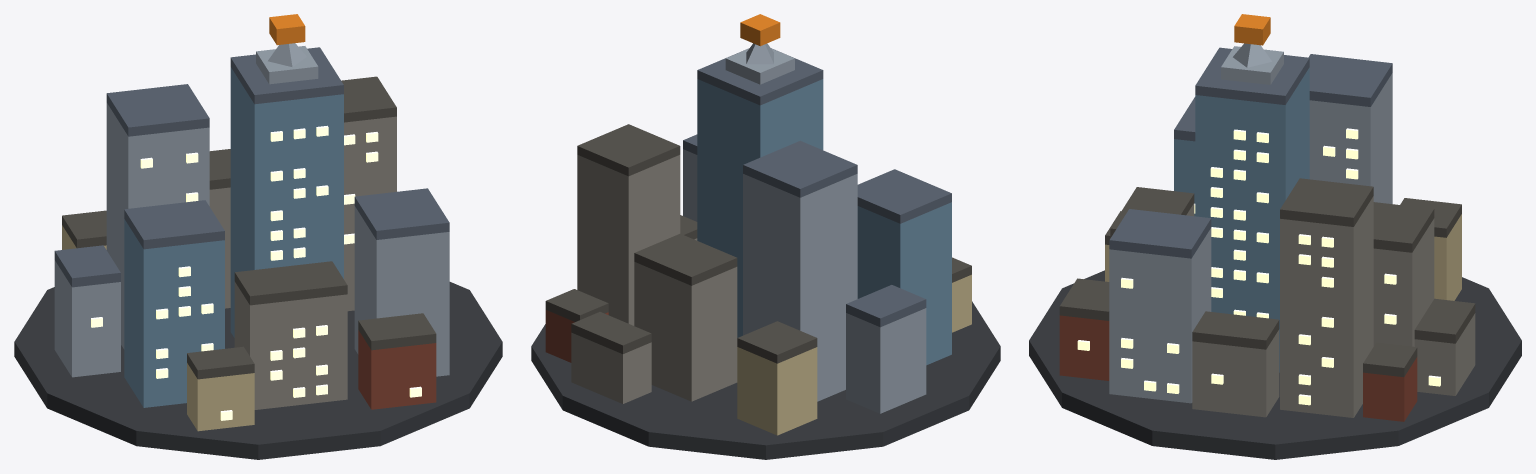
The model's file is overworld-settlement-city.glb.
3 views of the same model, side by side, from view 1: azimuth 30°, elevation 25°; view 2: azimuth 150°, elevation 25°; view 3: azimuth 270°, elevation 25° (orthographic). The views are drawn at different scales.
Visible parts, largest first — view 1: settlement, pad; view 2: settlement, pad; view 3: settlement, pad.
Boxes of the visible parts, bbox=[...] form: settlement: bbox=[54, 14, 449, 431]; pad: bbox=[14, 282, 502, 459]; settlement: bbox=[545, 14, 971, 435]; pad: bbox=[531, 301, 1000, 459]; settlement: bbox=[1059, 14, 1475, 421]; pad: bbox=[1029, 270, 1521, 459].
Size of the model in its own units: 0.58 by 0.445 by 0.58.
